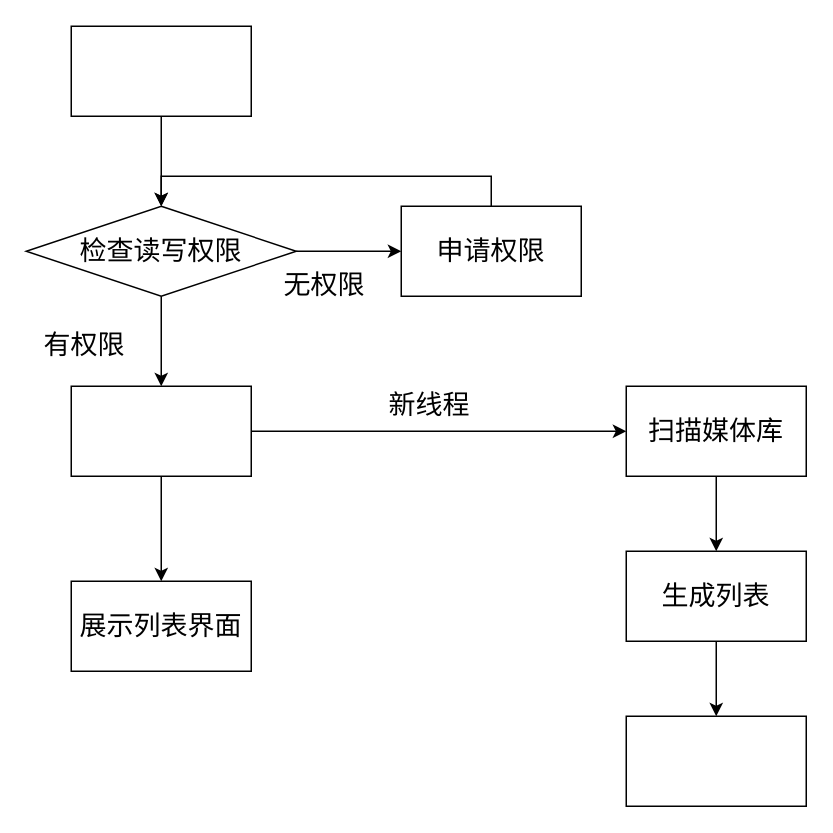
Image size: 833x833. Some labels were removed from this diagram. The shapes that lost their labels are listed below. From the top down, each one's centre as x and y in pixels, then its label:
the point at 160,70: 打开App
the point at 160,430: 开启新线程
the point at 715,760: 广播刷新列表
